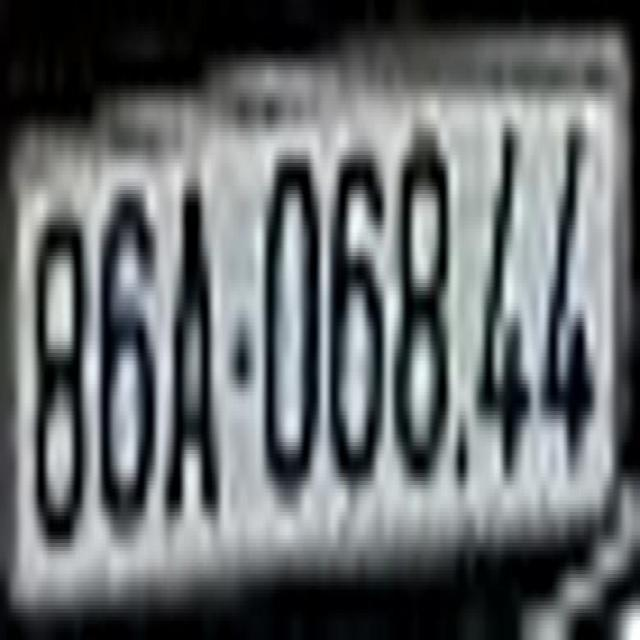0: (260, 155, 320, 493)
4: (540, 128, 600, 470), (478, 120, 534, 477)
6: (96, 175, 160, 540), (327, 136, 385, 500)
8: (24, 190, 84, 547), (396, 124, 448, 473)
A: (164, 190, 227, 524)
